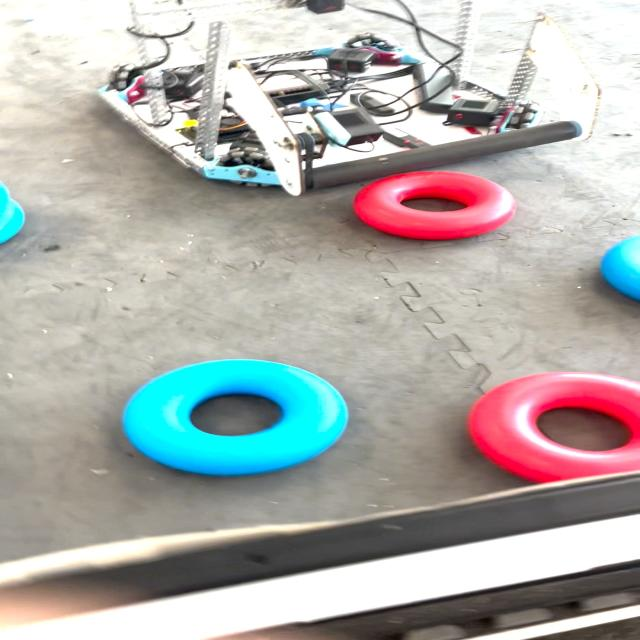Blue-Ring: (122, 359, 347, 475), (0, 182, 40, 244), (602, 236, 640, 300)
Red-Ring: (469, 372, 640, 482), (353, 171, 516, 240)
